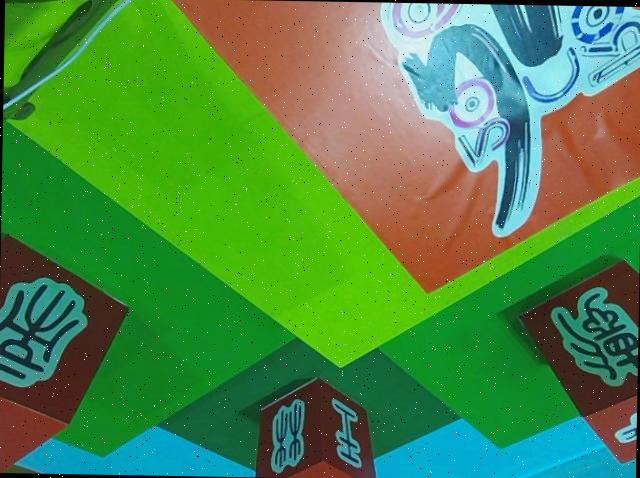R1: (158, 0, 640, 295)
R2 Fake: (0, 229, 129, 472), (515, 256, 640, 463), (253, 376, 376, 478)
